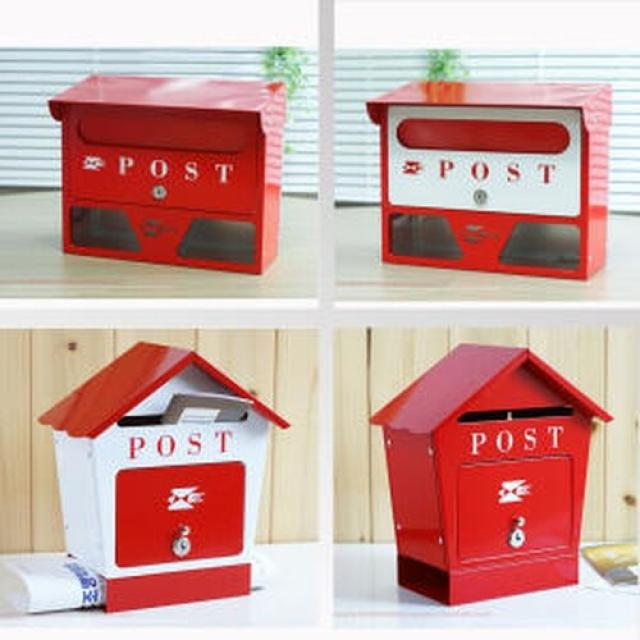Post Box: (38, 341, 298, 614), (372, 341, 614, 606), (362, 76, 614, 282), (42, 70, 288, 276)
